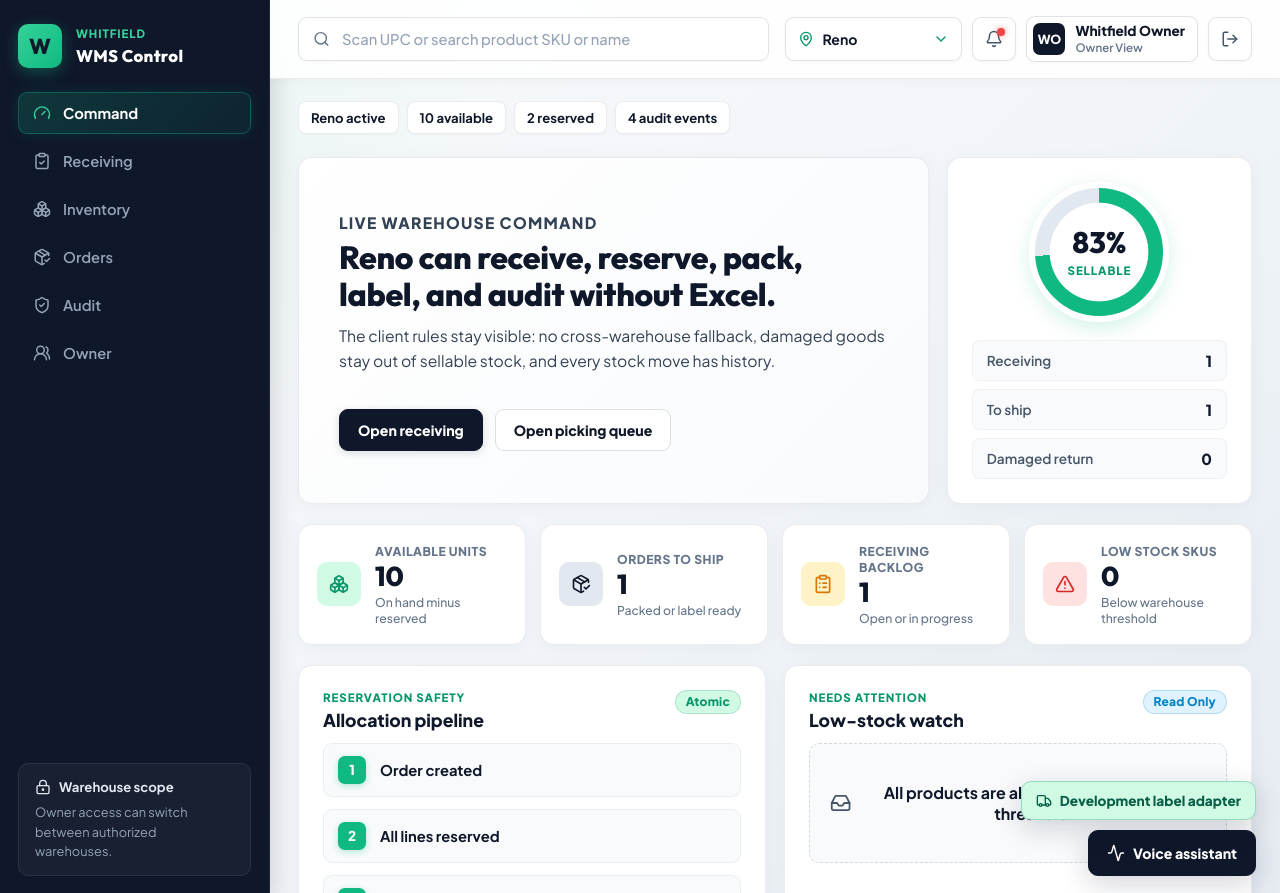
owner dashboard scope › offers an explicit all-warehouse view and requests combined metrics
The image size is (1280, 893).
Select "All warehouses" in the dropdown named "Warehouse" at point(874, 39), box [822,30,925,48]
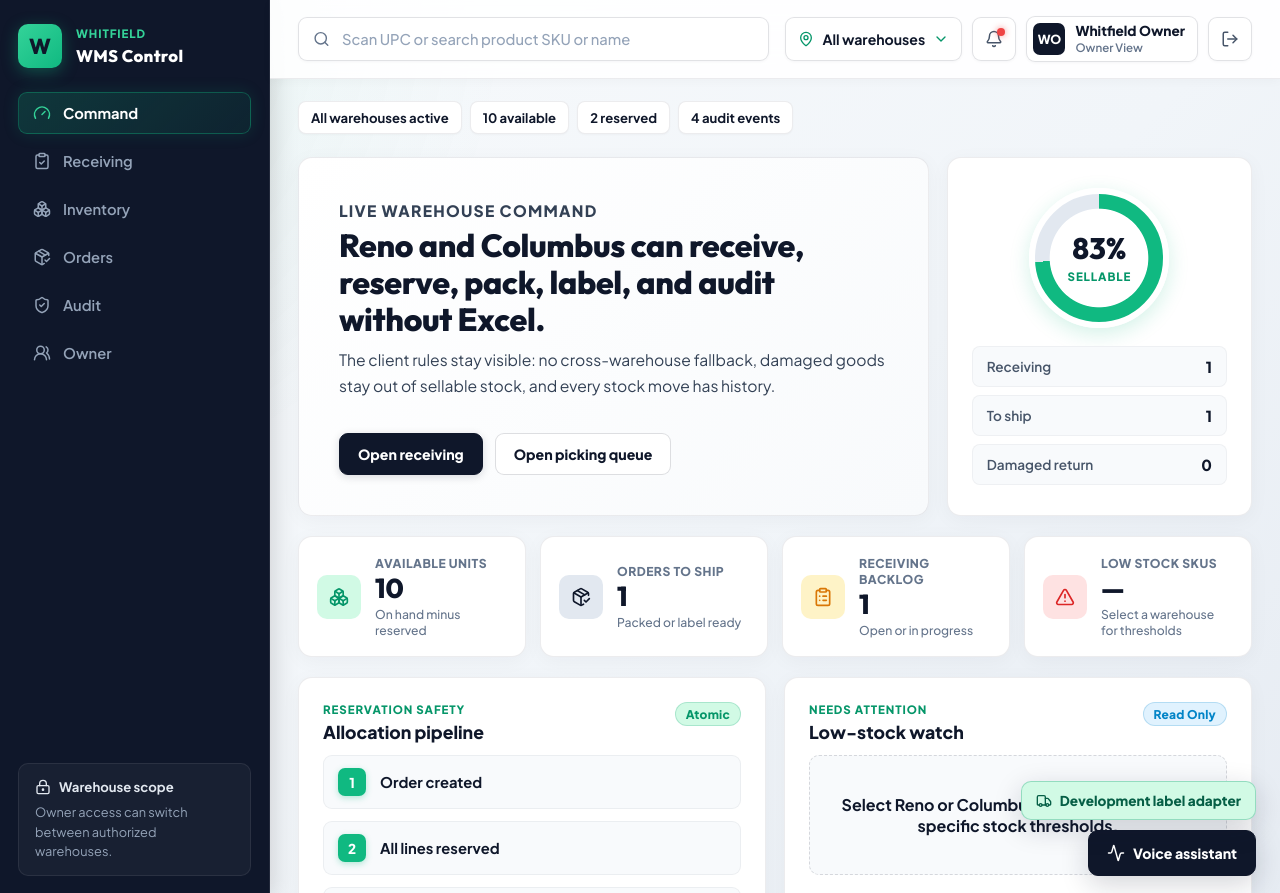
Expected: the text "All warehouses active" is shown, [298,100,462,134]
Expected: the heading "Reno and Columbus can receive, reserve, pack, label, and audit" is shown, [339,225,804,339]
